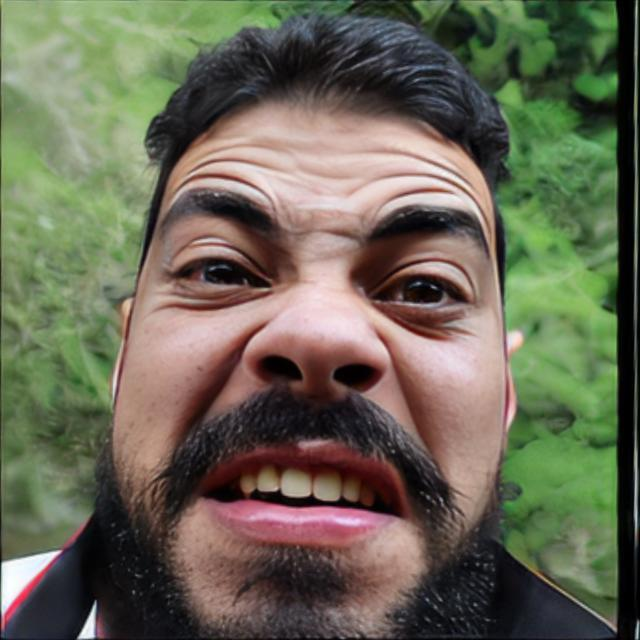disgust: (110, 86, 510, 640)
